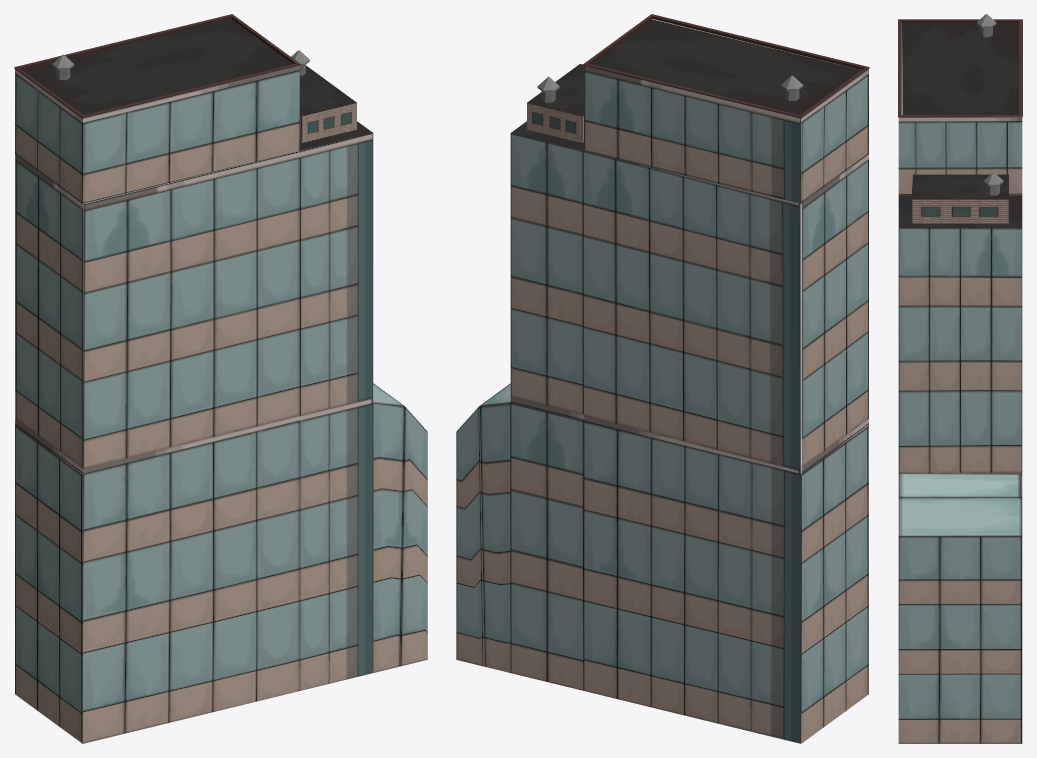
The model's file is BuildingDes.glb.
3 renders of one model, left to right at view 1: azimuth 30°, elevation 25°; view 2: azimuth 150°, elevation 25°; view 3: azimuth 270°, elevation 25°, orthographic. The views are drawn at different scales.
Parts seen in each view (by area): view 1: Building; view 2: Building; view 3: Building, Cylinder.001, Cylinder.
Part boxes in pixels (x1=…): Building: x1=14, y1=14, x2=427, y2=743; Building: x1=456, y1=14, x2=869, y2=743; Building: x1=898, y1=19, x2=1022, y2=743; Cylinder.001: x1=976, y1=14, x2=996, y2=37; Cylinder: x1=983, y1=172, x2=1003, y2=195.
Size of the model in its own units: 5.87 by 10.5 by 2.02.
3 materials, 3 textured.
